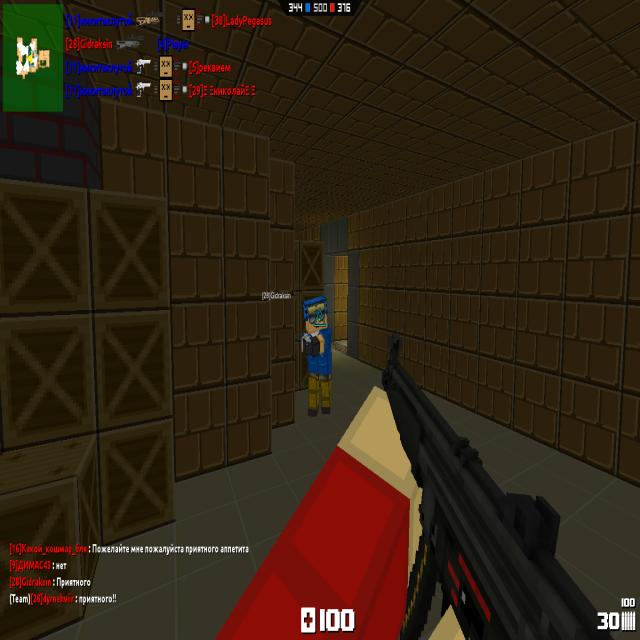enemy: (300, 293, 332, 416)
